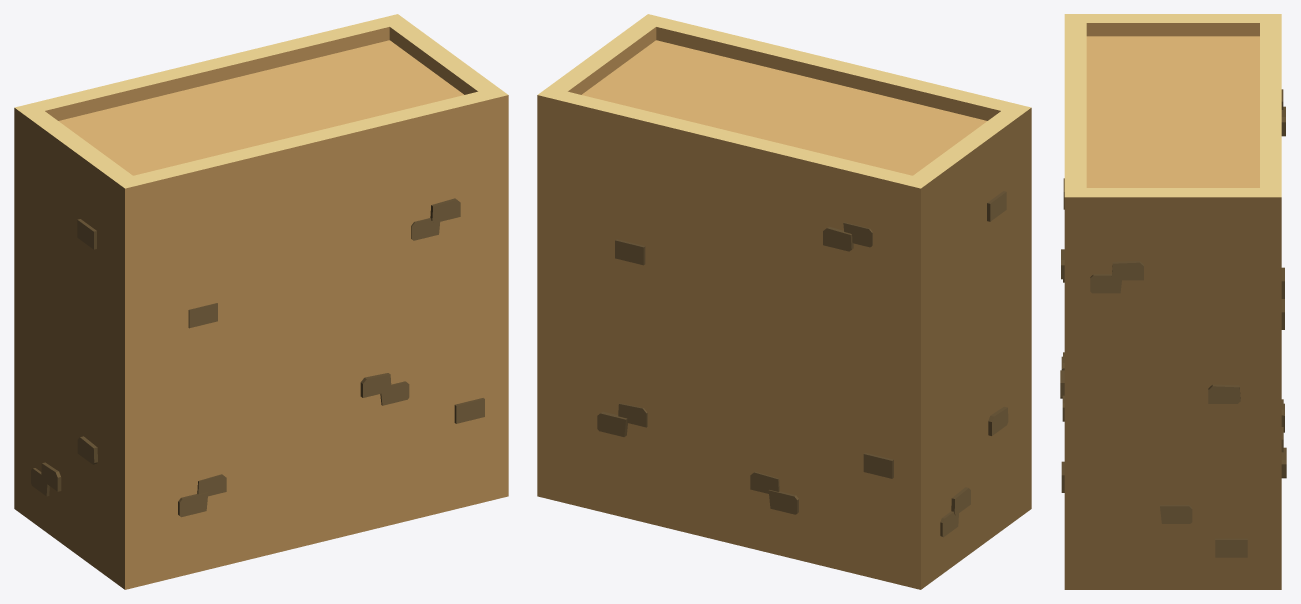
Rendered from TB_D_Bd_Body_Tall_Wide_Yel.FBX.
The picture shows the model from 3 angles, left to right: view 1: azimuth 30°, elevation 25°; view 2: azimuth 150°, elevation 25°; view 3: azimuth 270°, elevation 25°; orthographic projection. The views are drawn at different scales.
Parts seen in each view (by area): view 1: TB_D_Bd_Body_Tall_Wide_Yel; view 2: TB_D_Bd_Body_Tall_Wide_Yel; view 3: TB_D_Bd_Body_Tall_Wide_Yel.
Boxes of the visible parts, x1,y1,x2,y2 form: TB_D_Bd_Body_Tall_Wide_Yel: (14,14,508,589); TB_D_Bd_Body_Tall_Wide_Yel: (537,14,1031,589); TB_D_Bd_Body_Tall_Wide_Yel: (1060,14,1286,589).
Size of the model in its own units: 6.12 by 6 by 3.13.
